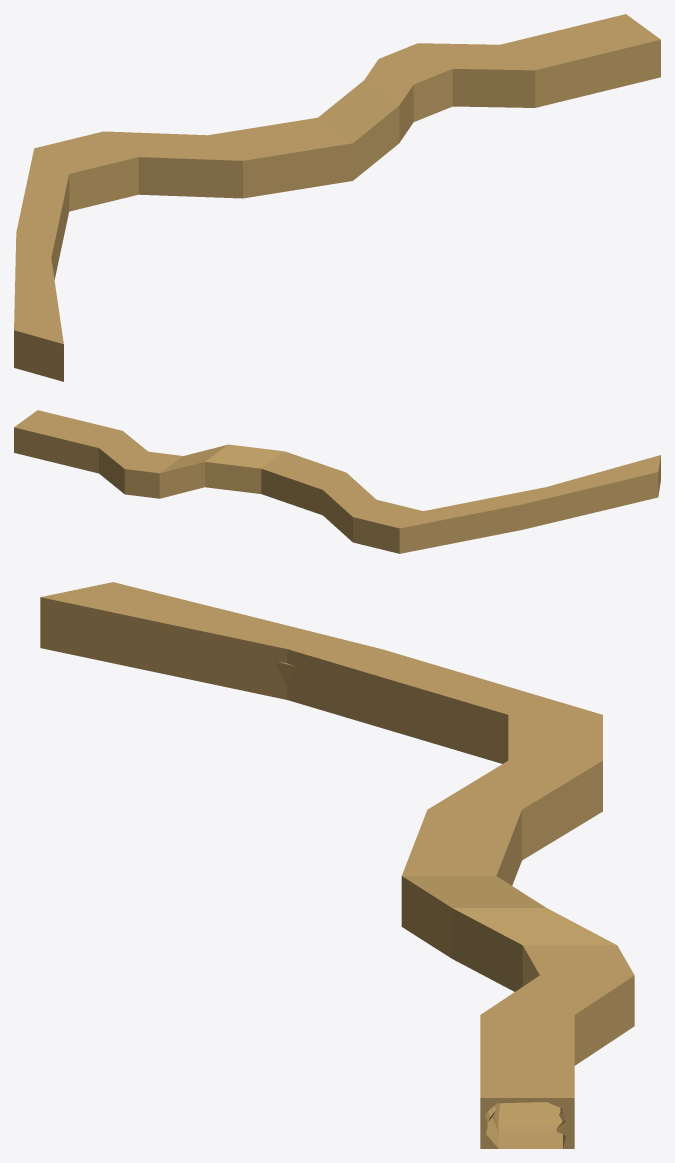
File: IntroCaveSystem.fbx
The picture shows the model from 3 angles, top to bottom: view 1: azimuth 30°, elevation 25°; view 2: azimuth 150°, elevation 25°; view 3: azimuth 270°, elevation 25°; orthographic projection. The views are drawn at different scales.
Parts seen in each view (by area): view 1: Cube; view 2: Cube; view 3: Cube.
Part boxes in pixels (bbox=[...]): Cube: bbox=[14, 14, 660, 381]; Cube: bbox=[14, 410, 660, 553]; Cube: bbox=[40, 582, 634, 1148].
Size of the model in its own units: 4350 by 242 by 2117.
